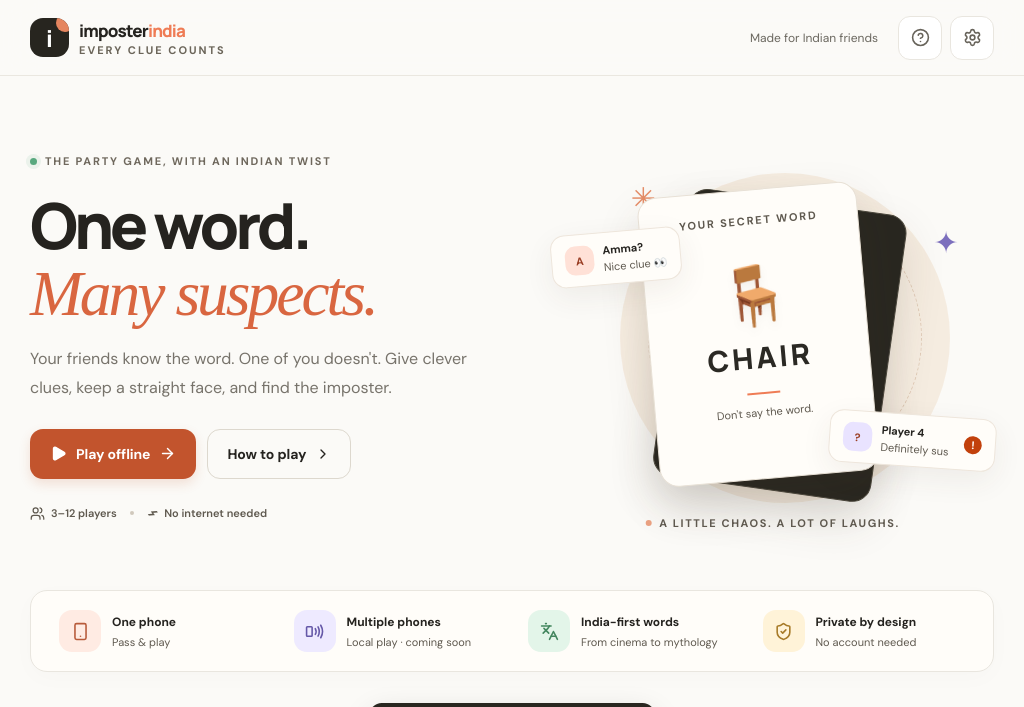
Test: App: storage unavailable › still loads and plays when the browser blocks localStorage entirely
What coordinates should you click on to do the following:
click the button "Play offline"
I would click on:
 (113, 454)
Its box is 30,429 -> 196,479.
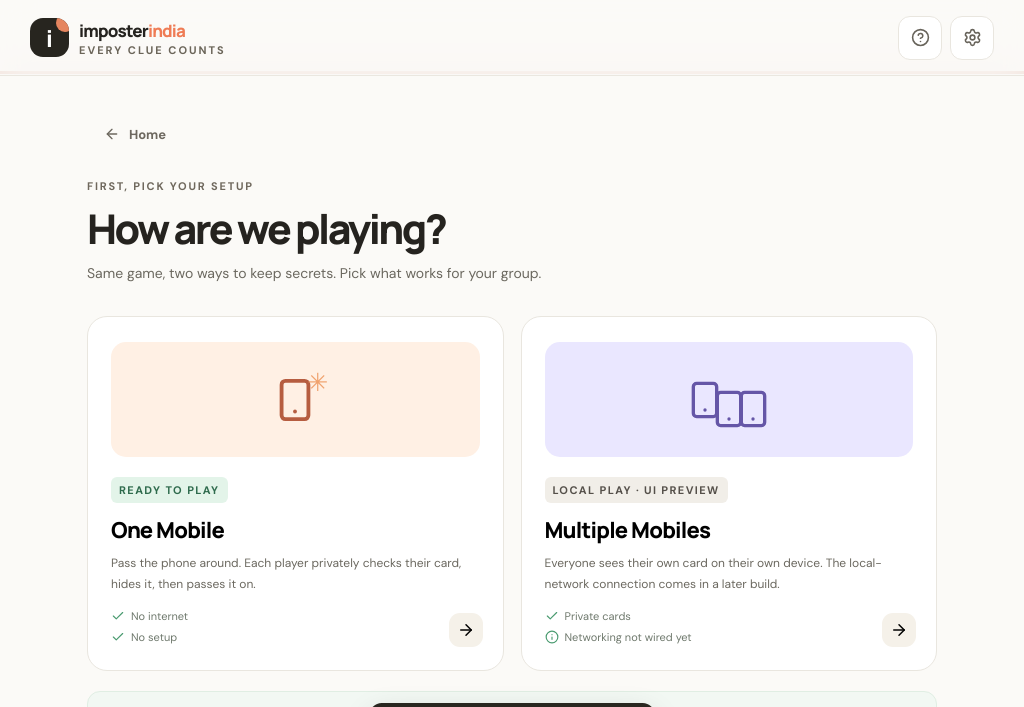
What coordinates should you click on to do the following:
click the button "One Mobile"
I would click on:
 (295, 400)
Its box is 87,316 -> 504,671.
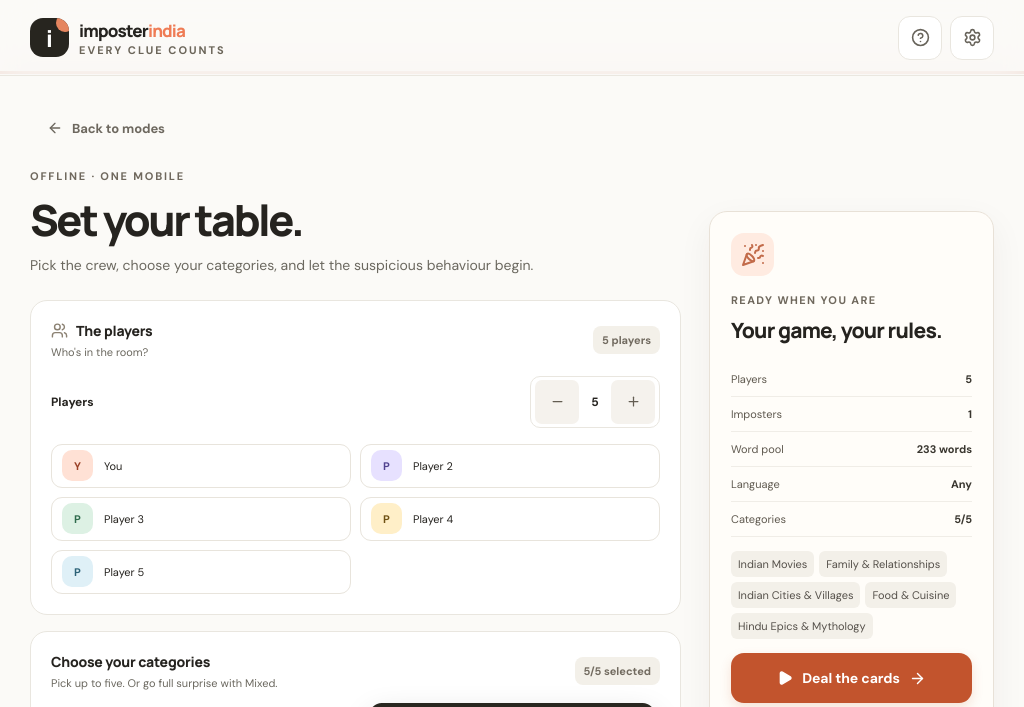
What coordinates should you click on to do the following:
click the button "Deal the cards"
I would click on:
 (852, 678)
Its box is 731,653 -> 972,703.
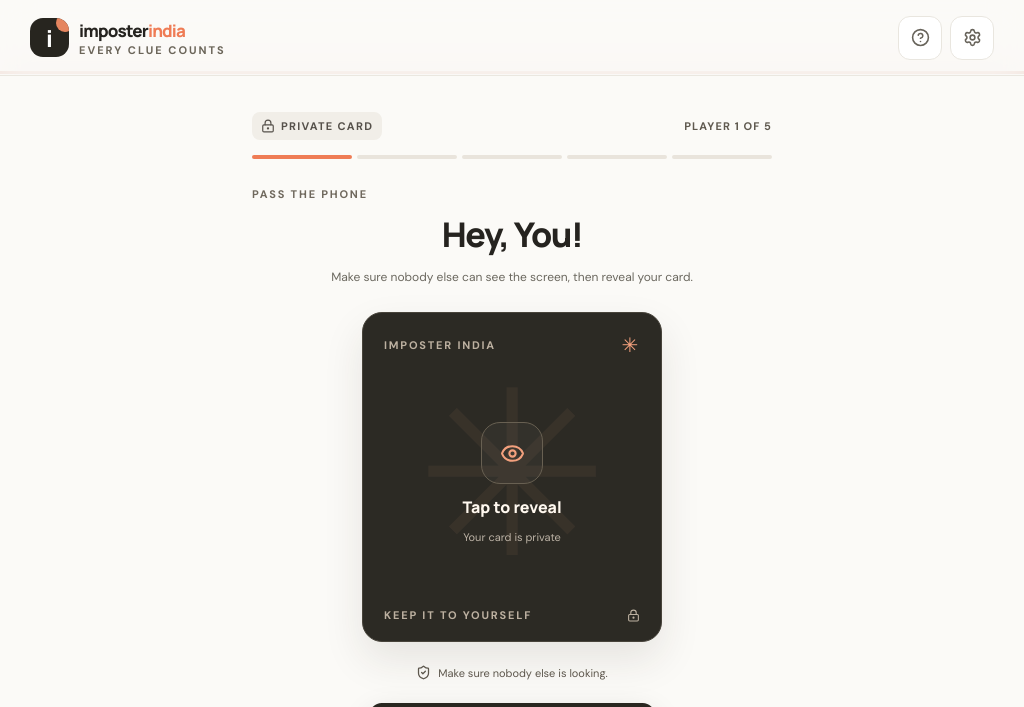
Expected: the text "PRIVATE CARD" is shown, 252,112 -> 382,140
